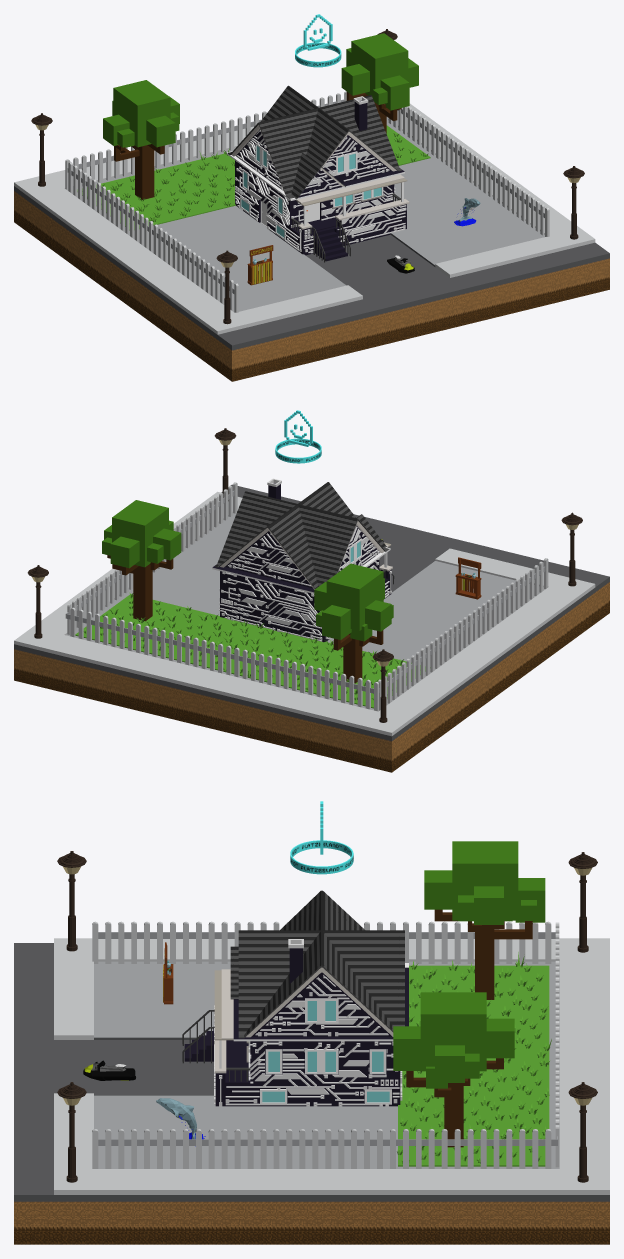
3 renders of one model, top to bottom at view 1: azimuth 30°, elevation 25°; view 2: azimuth 150°, elevation 25°; view 3: azimuth 270°, elevation 25°, orthographic. The views are drawn at different scales.
Visible parts, largest first — view 1: Cube.004, Cube.918, TYPE_PREMIUM, OBJRANDOM_LEMONADE_STAND; view 2: Cube.004, Cube.918, TYPE_PREMIUM, OBJRANDOM_LEMONADE_STAND; view 3: Cube.004, Cube.918, TYPE_PREMIUM, VEHICLES_WATERBIKE, ANIMAL_DELFIN.
Part boxes in pixels (x1,y1,x2,y2): Cube.004: (14,29,609,381); Cube.918: (226,85,409,262); TYPE_PREMIUM: (295,14,341,67); OBJRANDOM_LEMONADE_STAND: (247,245,273,285); Cube.004: (14,428,609,772); Cube.918: (212,478,394,642); TYPE_PREMIUM: (275,410,321,463); OBJRANDOM_LEMONADE_STAND: (455,557,481,599); Cube.004: (14,841,609,1244); Cube.918: (182,890,408,1106); TYPE_PREMIUM: (290,801,353,874); VEHICLES_WATERBIKE: (83,1060,135,1080); ANIMAL_DELFIN: (156,1098,205,1146).
Size of the model in its own units: 4000 by 2483 by 4000.
Materials: 37 (4 with a texture image).
